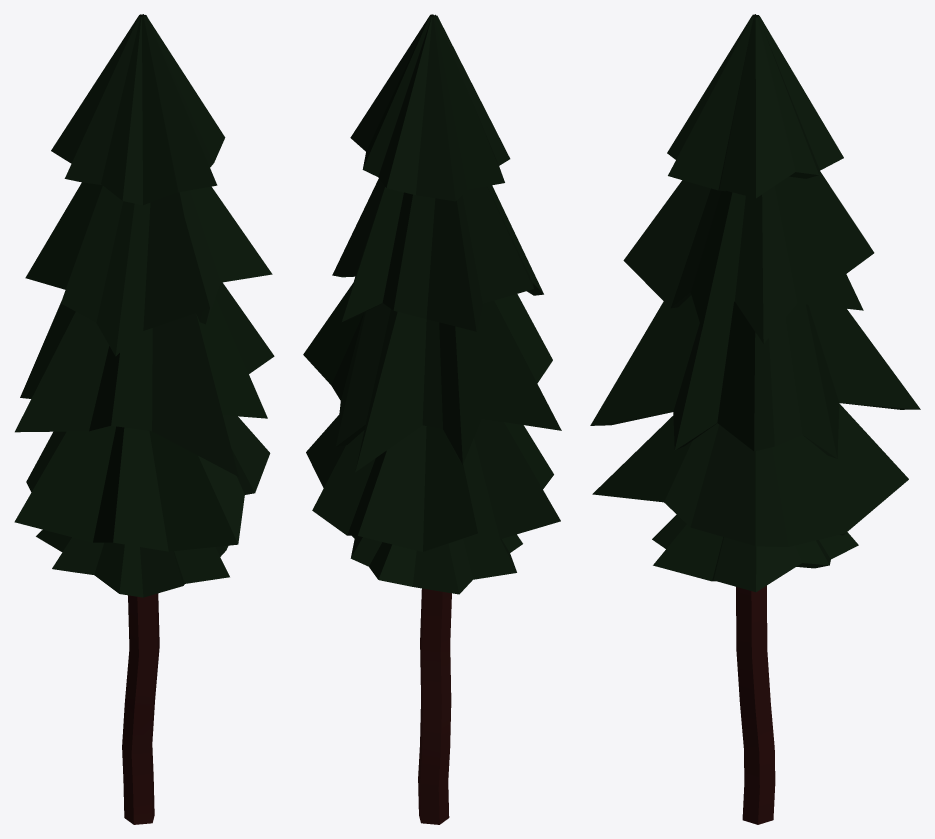
Rendered from SM_Tree_5.FBX.
The picture shows the model from 3 angles, left to right: view 1: azimuth 30°, elevation 25°; view 2: azimuth 150°, elevation 25°; view 3: azimuth 270°, elevation 25°; orthographic projection.
Visible parts, largest first — view 1: Tree; view 2: Tree; view 3: Tree.
Part boxes in pixels (x1,y1,x2,y2): Tree: [14, 14, 274, 824]; Tree: [303, 14, 561, 824]; Tree: [590, 14, 920, 824].
Size of the model in its own units: 230 by 680 by 254.
